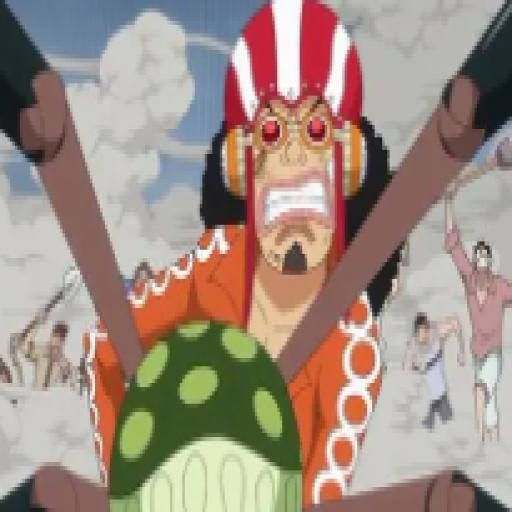Usopp: (77, 0, 397, 512)
